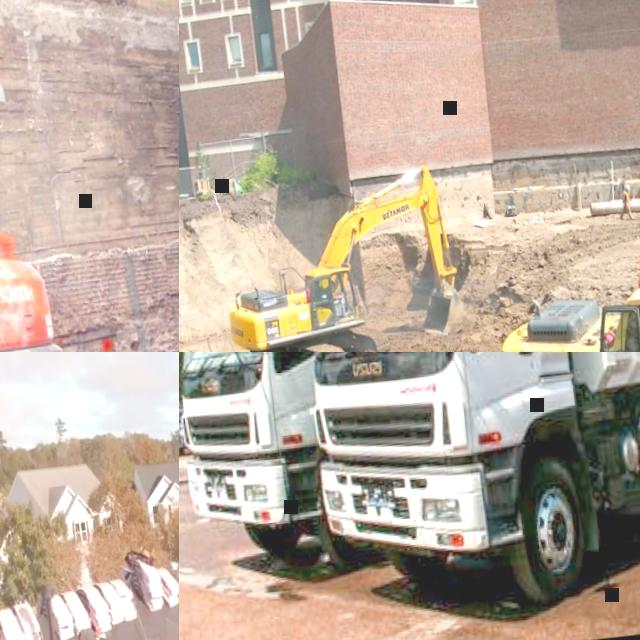helmet: (624, 184, 630, 192)
machinery: (285, 352, 640, 631), (465, 10, 640, 352), (211, 159, 466, 352), (179, 352, 358, 580), (0, 41, 71, 352)
person: (616, 184, 632, 222), (329, 280, 336, 300)
vest: (622, 191, 628, 204)
